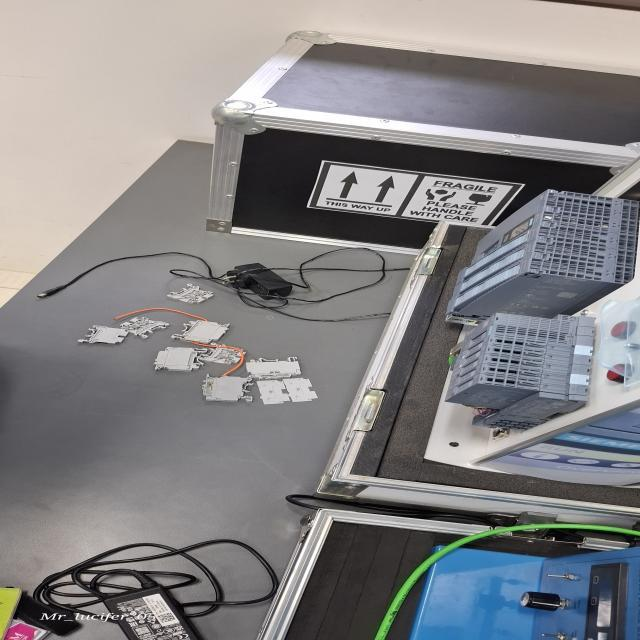Inverted: (74, 324, 132, 346)
Pass: (200, 340, 252, 366), (118, 316, 173, 340), (164, 282, 214, 304)
